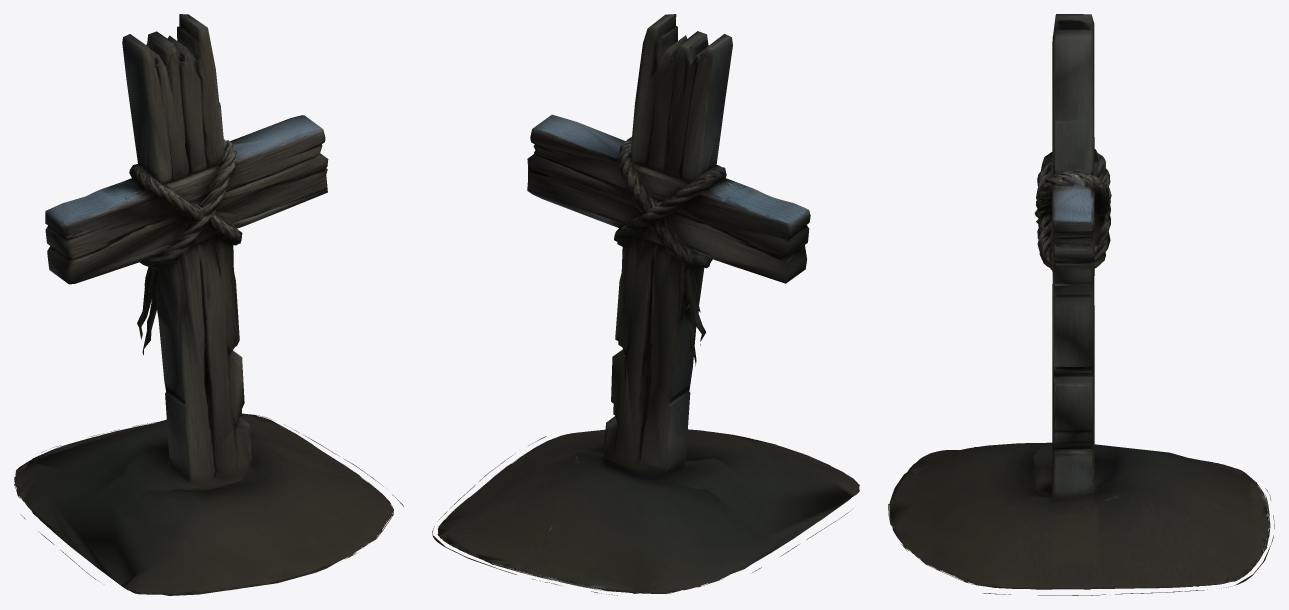
File: Woodengravemarker2.opt.glb
3 renders of one model, left to right at view 1: azimuth 30°, elevation 25°; view 2: azimuth 150°, elevation 25°; view 3: azimuth 270°, elevation 25°, orthographic. The views are drawn at different scales.
Parts seen in each view (by area): view 1: node_0; view 2: node_0; view 3: node_0.
Boxes of the visible parts, x1=… form: node_0: x1=14, y1=14, x2=403, y2=595; node_0: x1=432, y1=14, x2=859, y2=595; node_0: x1=888, y1=14, x2=1274, y2=595.
Size of the model in its own units: 0.6095 by 0.9212 by 0.6694.
1 material, 1 textured.
